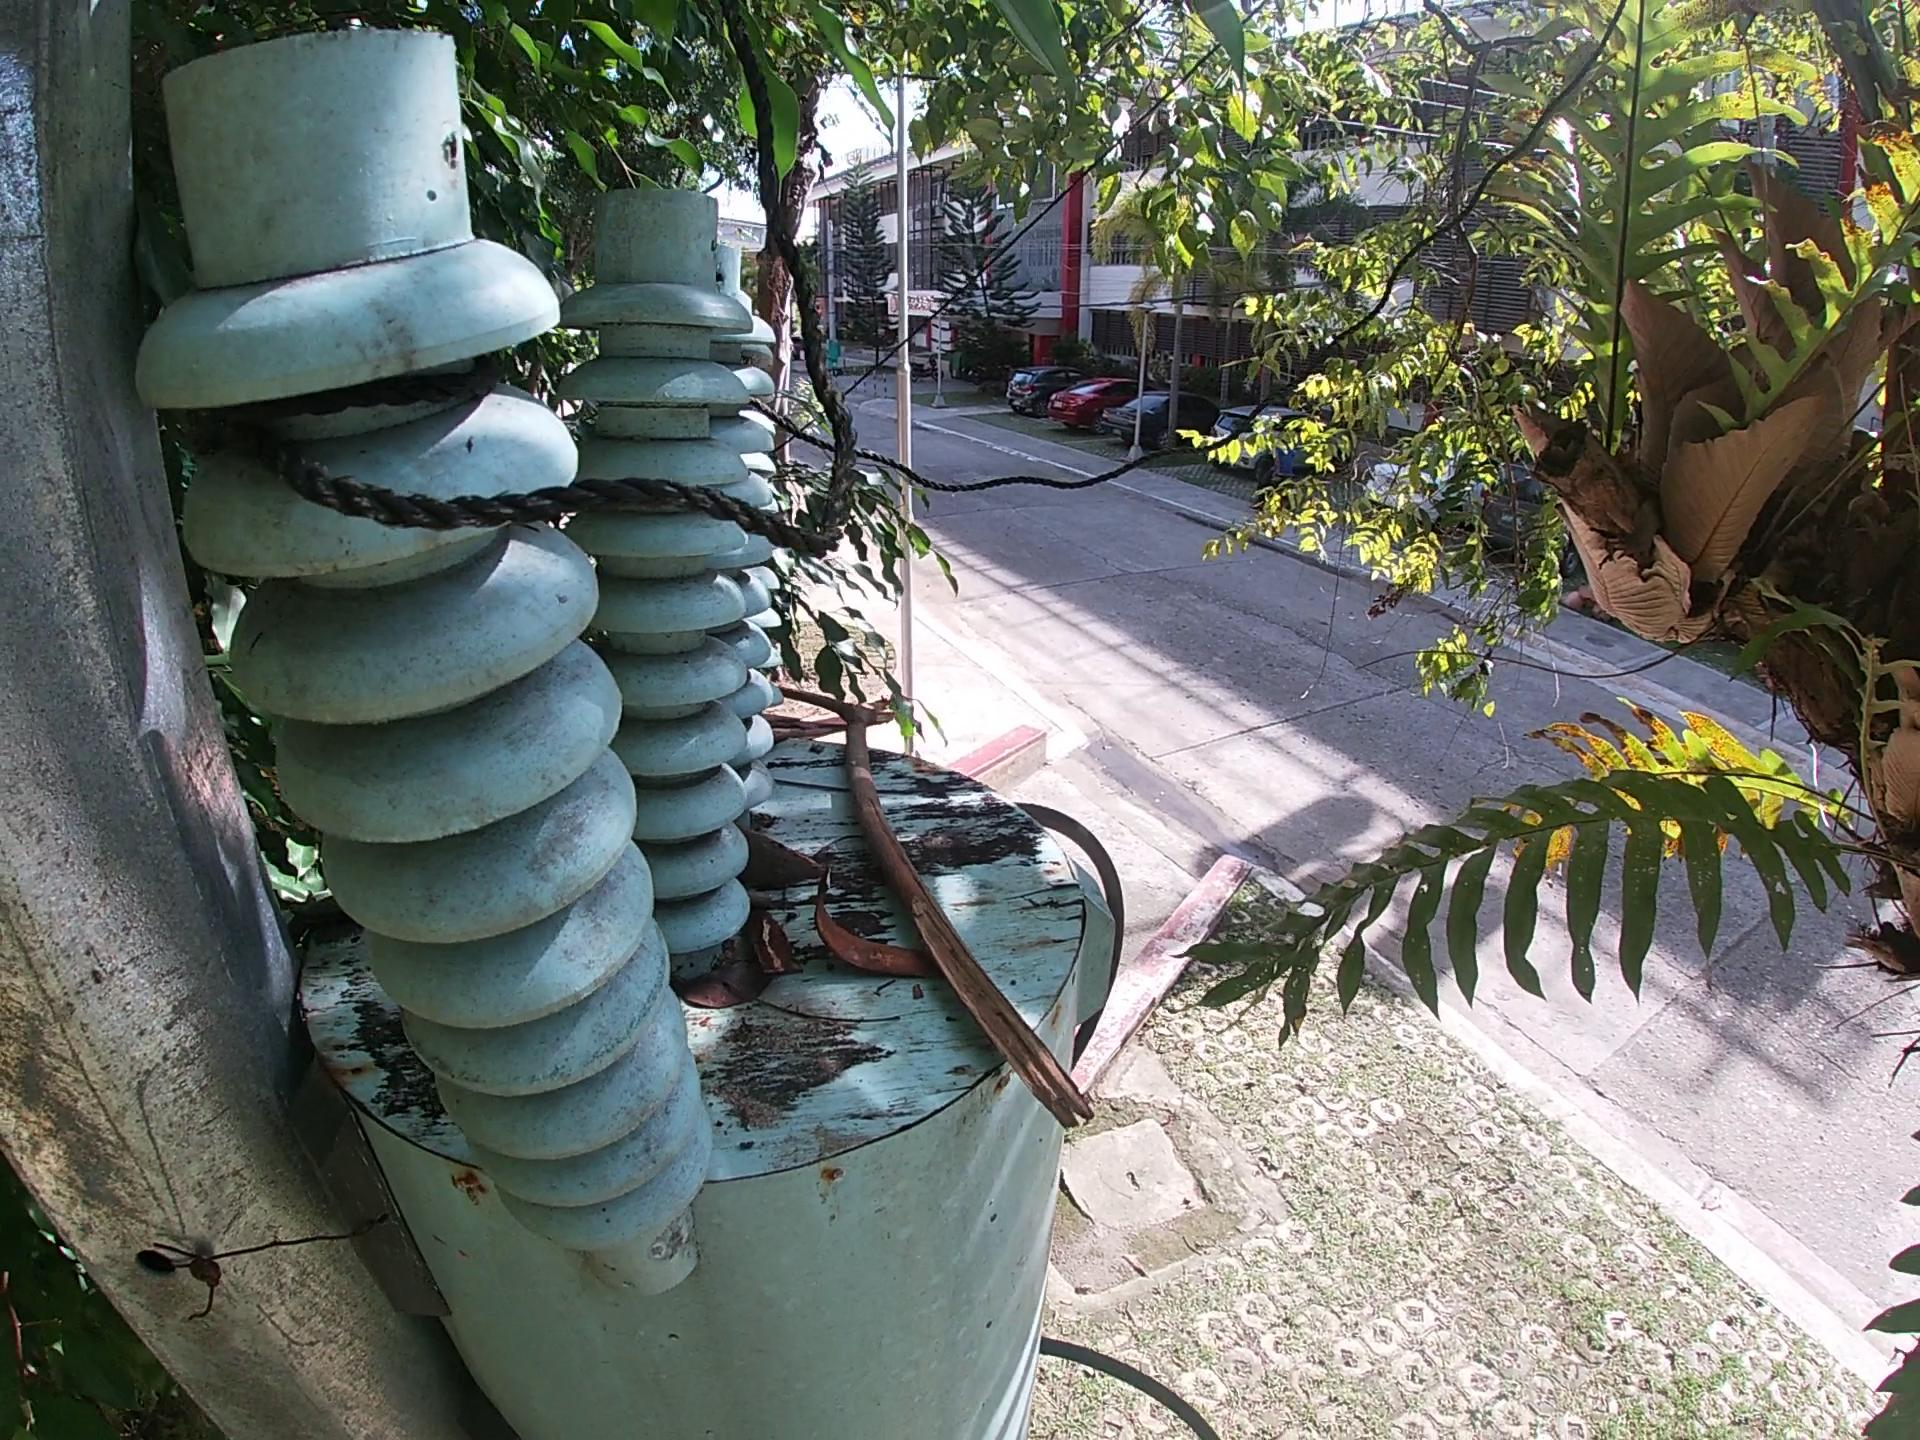leaf: (671, 965, 768, 1013)
mahogany fruit: (810, 871, 946, 983), (730, 827, 822, 889), (742, 906, 807, 979)
tree branch: (777, 687, 1095, 1134), (757, 709, 848, 750)
